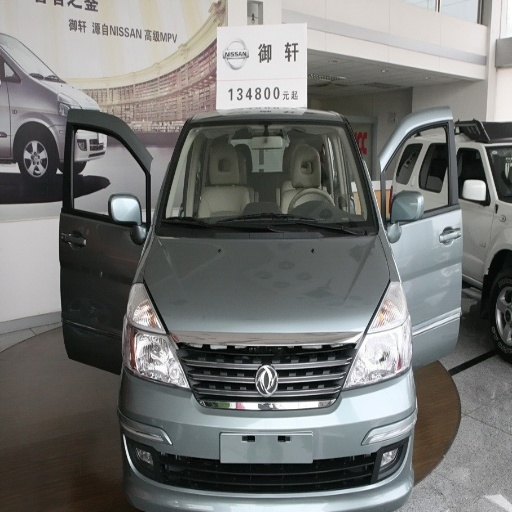front_bumper: (119, 342, 409, 511)
front_right_light: (126, 282, 185, 389)
hood: (142, 235, 390, 396)
left_mirror: (385, 191, 425, 233)
